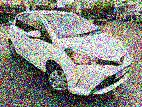car: (5, 9, 132, 101)
